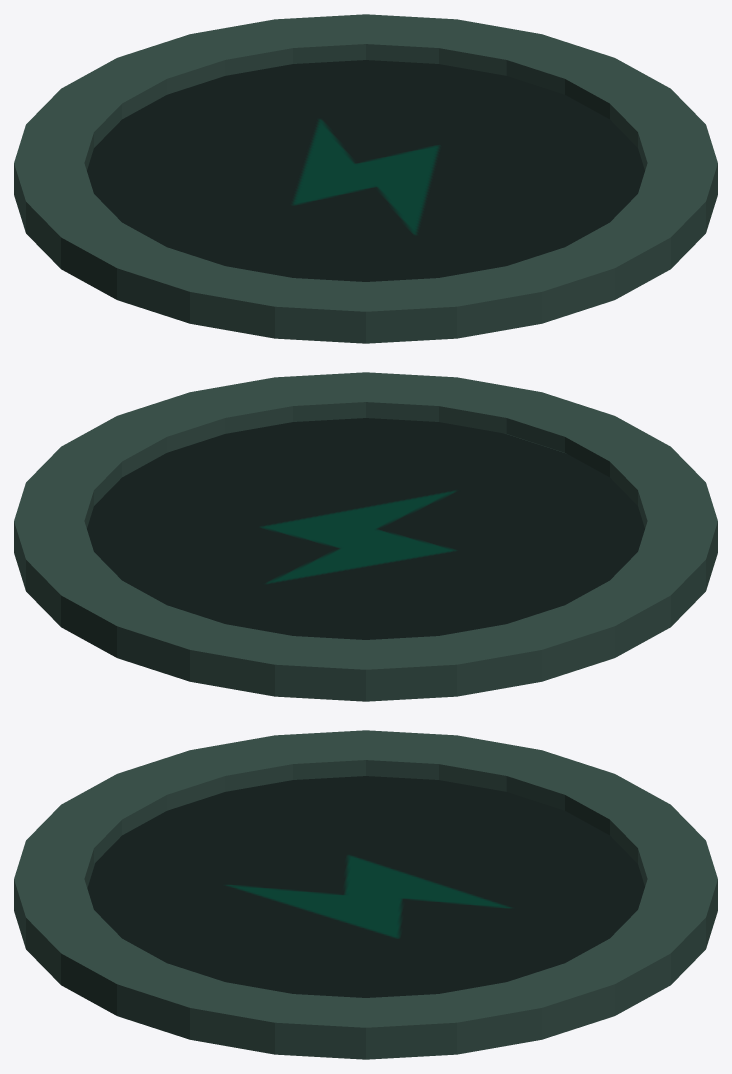
Rendered from Switch.fbx.
The picture shows the model from 3 angles, top to bottom: view 1: azimuth 30°, elevation 25°; view 2: azimuth 150°, elevation 25°; view 3: azimuth 270°, elevation 25°; orthographic projection.
Parts seen in each view (by area): view 1: Model; view 2: Model; view 3: Model.
Part boxes in pixels (left/top/right/bottom): Model: left=14, top=14, right=717, bottom=343; Model: left=14, top=372, right=717, bottom=701; Model: left=14, top=730, right=717, bottom=1059.
Bounding box in the file's own units: 300 × 15 × 300.
1 material, 1 textured.
